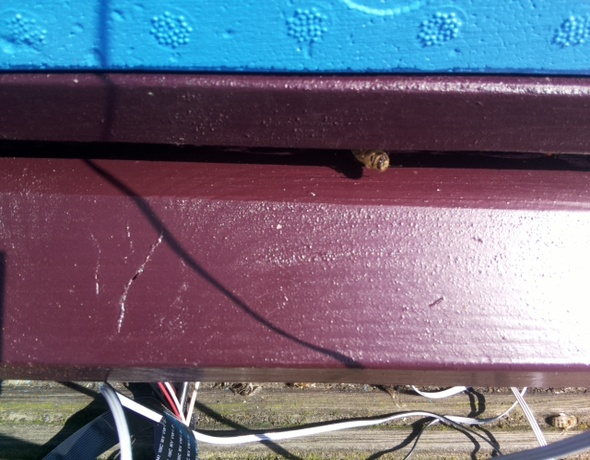no_pollen: (350, 147, 394, 177)
